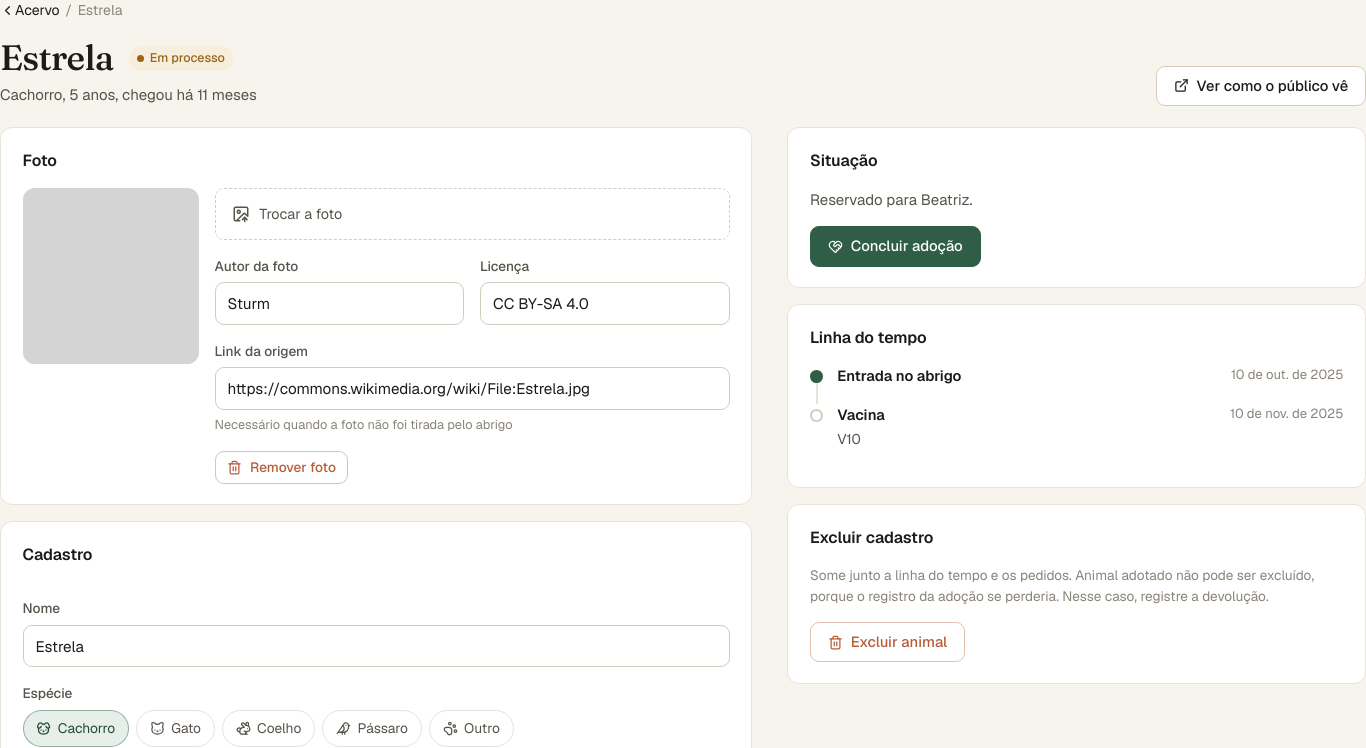
Test: gerenciar animal › em processo conclui a adoção com o pedido aprovado
Expected: the text "Reservado para Beatriz." is shown, [810, 190, 973, 209]
Click the button "Concluir adoção" at point(895, 246), box [810, 226, 981, 267]
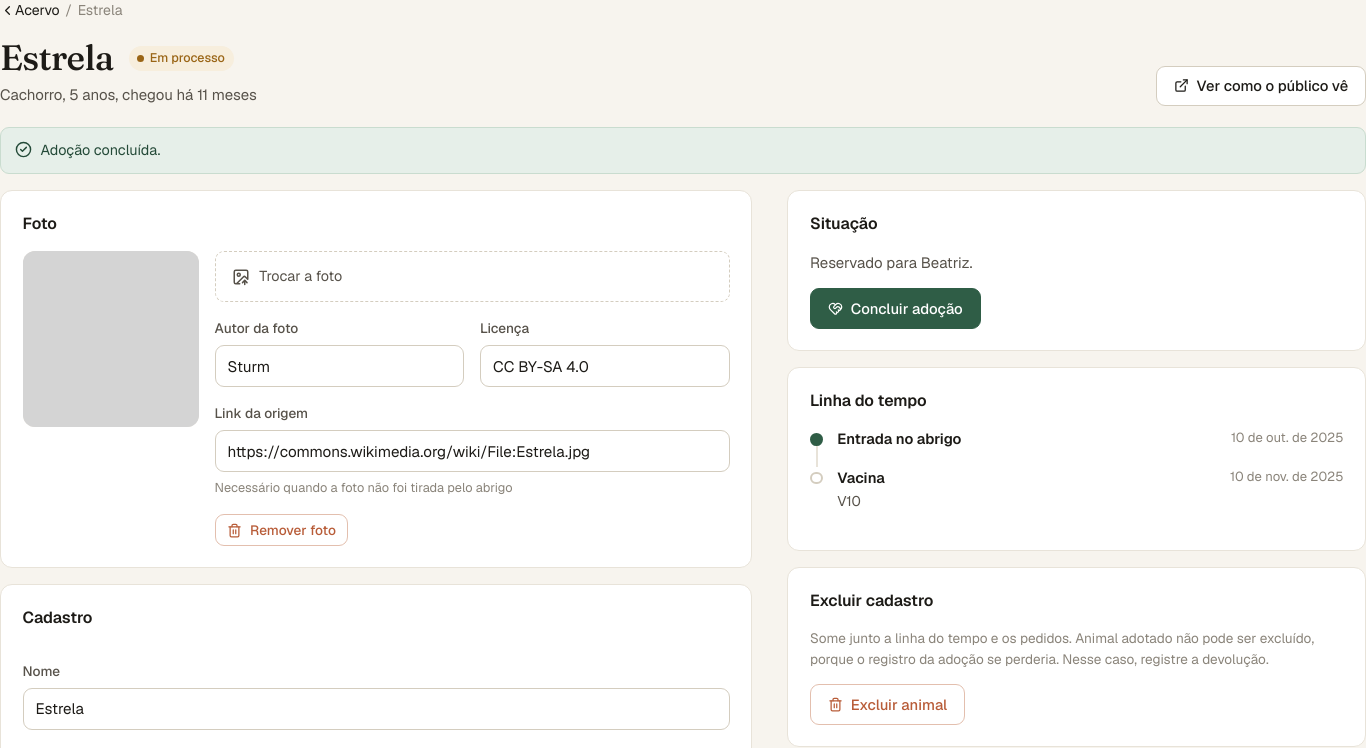
Expected: the text "Adoção concluída." is shown, [40, 139, 160, 162]
